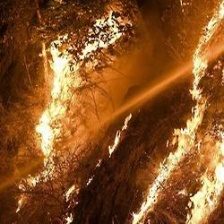fire: (25, 2, 224, 223)
